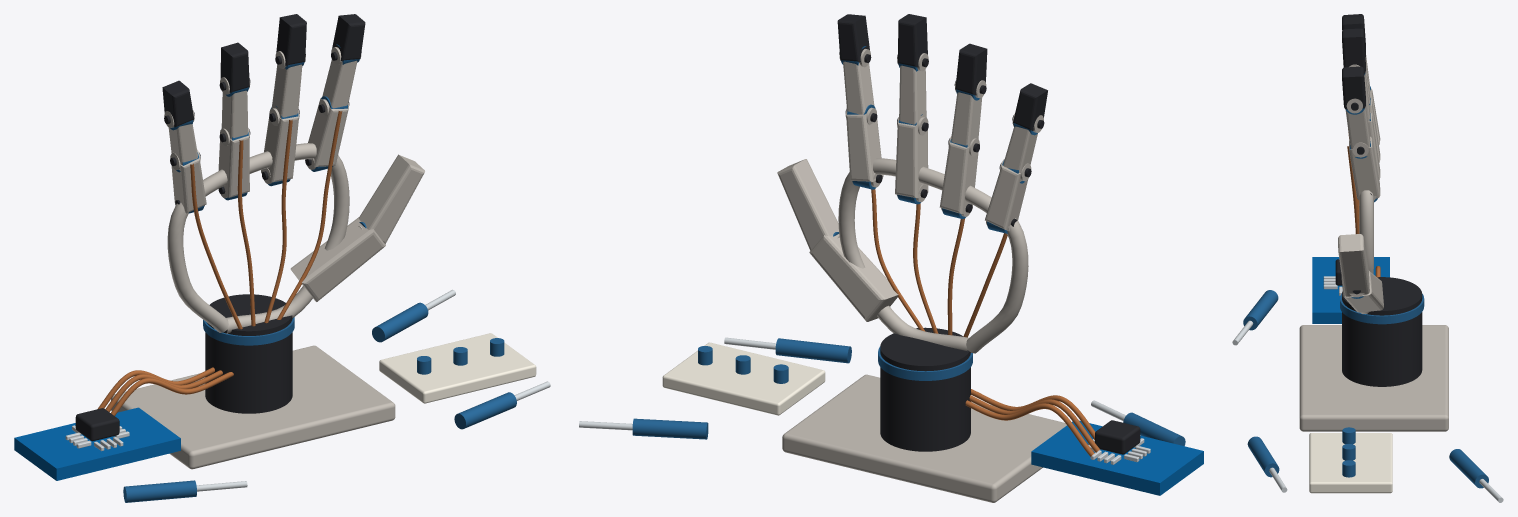
File: anatomy-60.glb
The picture shows the model from 3 angles, left to right: view 1: azimuth 30°, elevation 25°; view 2: azimuth 150°, elevation 25°; view 3: azimuth 270°, elevation 25°; orthographic projection. The views are drawn at different scales.
Visible parts, largest first — view 1: digits, base, board, wrist, thumb, panel, palm, tools, tendons, joints, terminal-posts; view 2: digits, base, board, wrist, panel, palm, thumb, tools, joints, tendons, terminal-posts; view 3: base, wrist, panel, digits, thumb, tools, board, palm, terminal-posts, joints, tendons.
Part boxes in pixels (<box>): digits: <box>162,14,365,213</box>; base: <box>111,345,395,469</box>; board: <box>14,367,233,480</box>; wrist: <box>203,294,294,413</box>; thumb: <box>290,154,424,301</box>; panel: <box>379,333,536,403</box>; palm: <box>167,143,349,333</box>; tools: <box>123,289,550,502</box>; tendons: <box>190,111,342,329</box>; joints: <box>164,44,361,213</box>; terminal-posts: <box>417,338,504,374</box>; digits: <box>837,14,1047,230</box>; base: <box>782,374,1066,502</box>; board: <box>965,389,1203,495</box>; wrist: <box>878,327,972,451</box>; panel: <box>662,342,825,415</box>; palm: <box>838,158,1028,353</box>; thumb: <box>777,159,898,321</box>; tools: <box>579,337,1185,446</box>; joints: <box>839,46,1044,233</box>; tendons: <box>871,189,1007,337</box>; terminal-posts: <box>698,346,788,383</box>; base: <box>1299,325,1448,431</box>; wrist: <box>1340,277,1424,386</box>; panel: <box>1309,433,1392,493</box>; digits: <box>1342,14,1380,199</box>; thumb: <box>1338,234,1383,312</box>; tools: <box>1232,290,1503,502</box>; board: <box>1312,257,1389,323</box>; palm: <box>1359,190,1373,313</box>; terminal-posts: <box>1342,427,1355,477</box>; joints: <box>1345,64,1377,202</box>; tendons: <box>1347,132,1359,233</box>.
Size of the model in its own units: 2.74 by 2.09 by 1.4.
